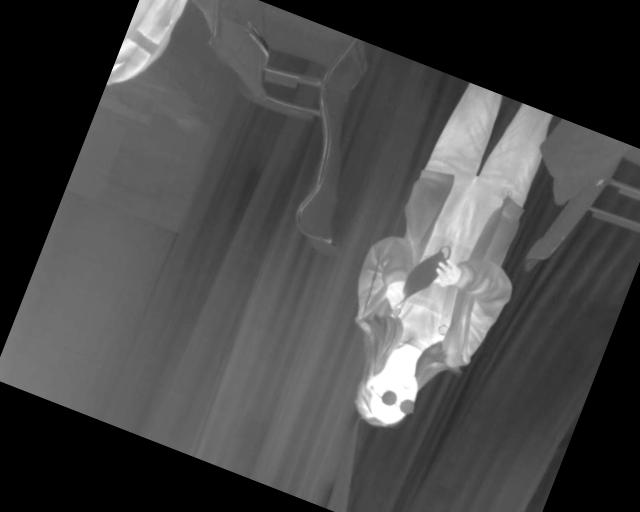face: (348, 357, 426, 438)
